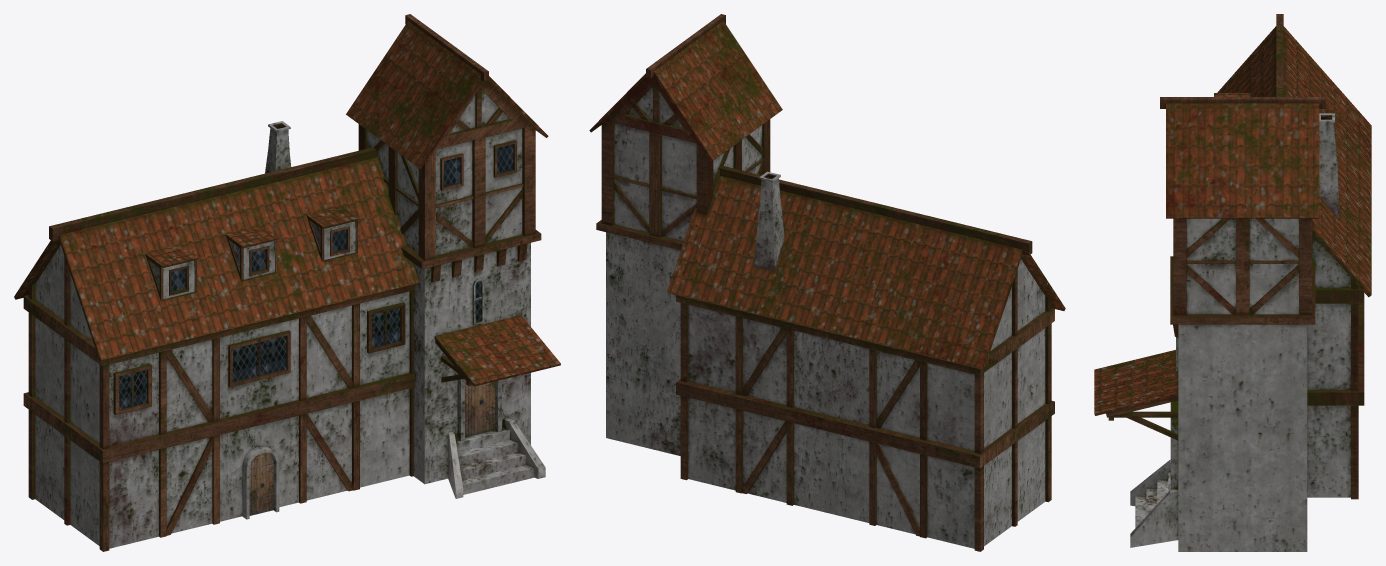
File: HouseD.gltf
3 renders of one model, left to right at view 1: azimuth 30°, elevation 25°; view 2: azimuth 150°, elevation 25°; view 3: azimuth 270°, elevation 25°, orthographic. The views are drawn at different scales.
Visible parts, largest first — view 1: House4_House4_M_0; view 2: House4_House4_M_0; view 3: House4_House4_M_0.
Part boxes in pixels (bbox=[...]): House4_House4_M_0: bbox=[14, 14, 560, 551]; House4_House4_M_0: bbox=[589, 14, 1065, 551]; House4_House4_M_0: bbox=[1094, 14, 1371, 551].
Size of the model in its own units: 95.83 by 83.7 by 49.3.
1 material, 1 textured.
